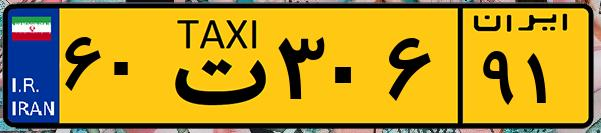0: (330, 28, 385, 110), (110, 28, 158, 98)
1: (525, 38, 570, 115)
3: (270, 28, 330, 110)
6: (385, 28, 445, 110), (57, 26, 110, 100)
9: (475, 38, 525, 113)
ت: (158, 12, 270, 120)
